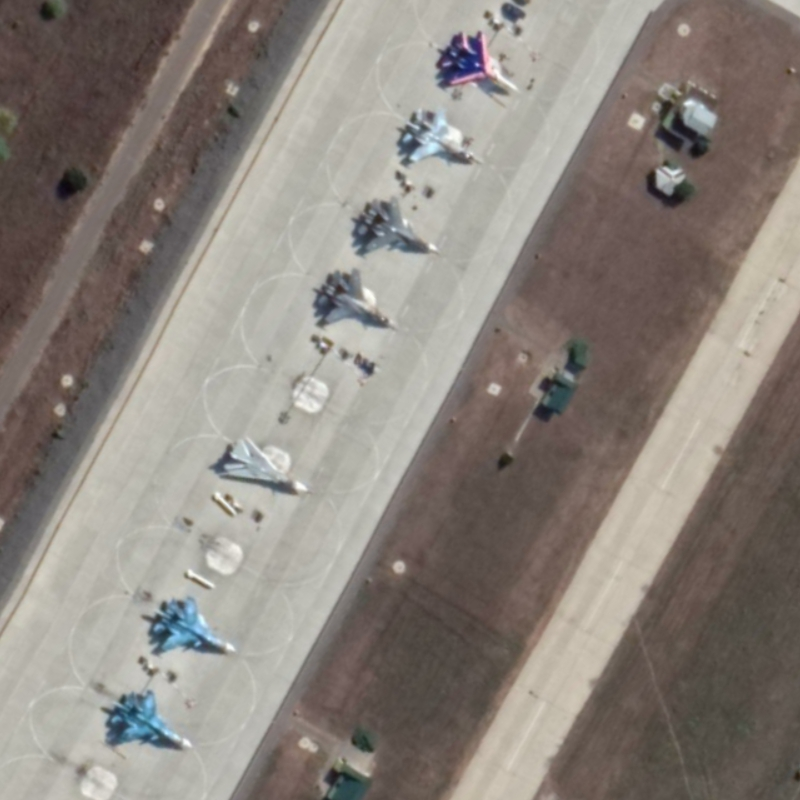A1: (438, 29, 522, 96), (319, 266, 402, 331), (401, 105, 484, 166)
A19: (109, 687, 197, 751), (151, 593, 239, 656), (359, 194, 442, 257)
A20: (221, 435, 311, 494)
